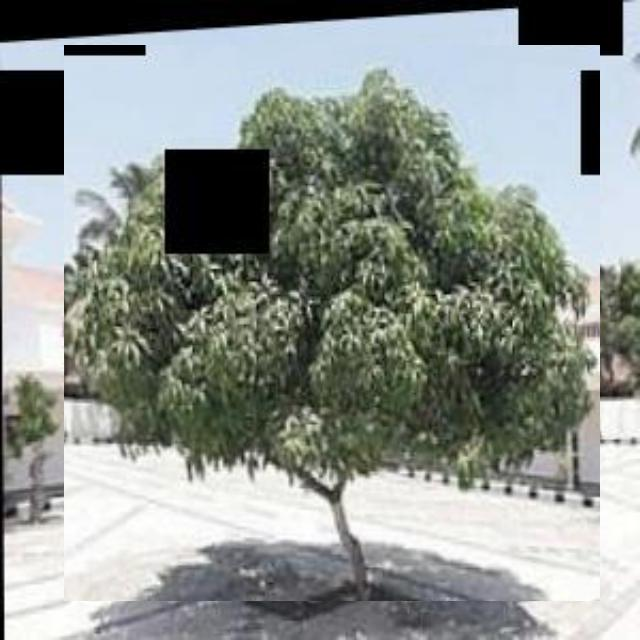tree: (64, 45, 600, 601)
